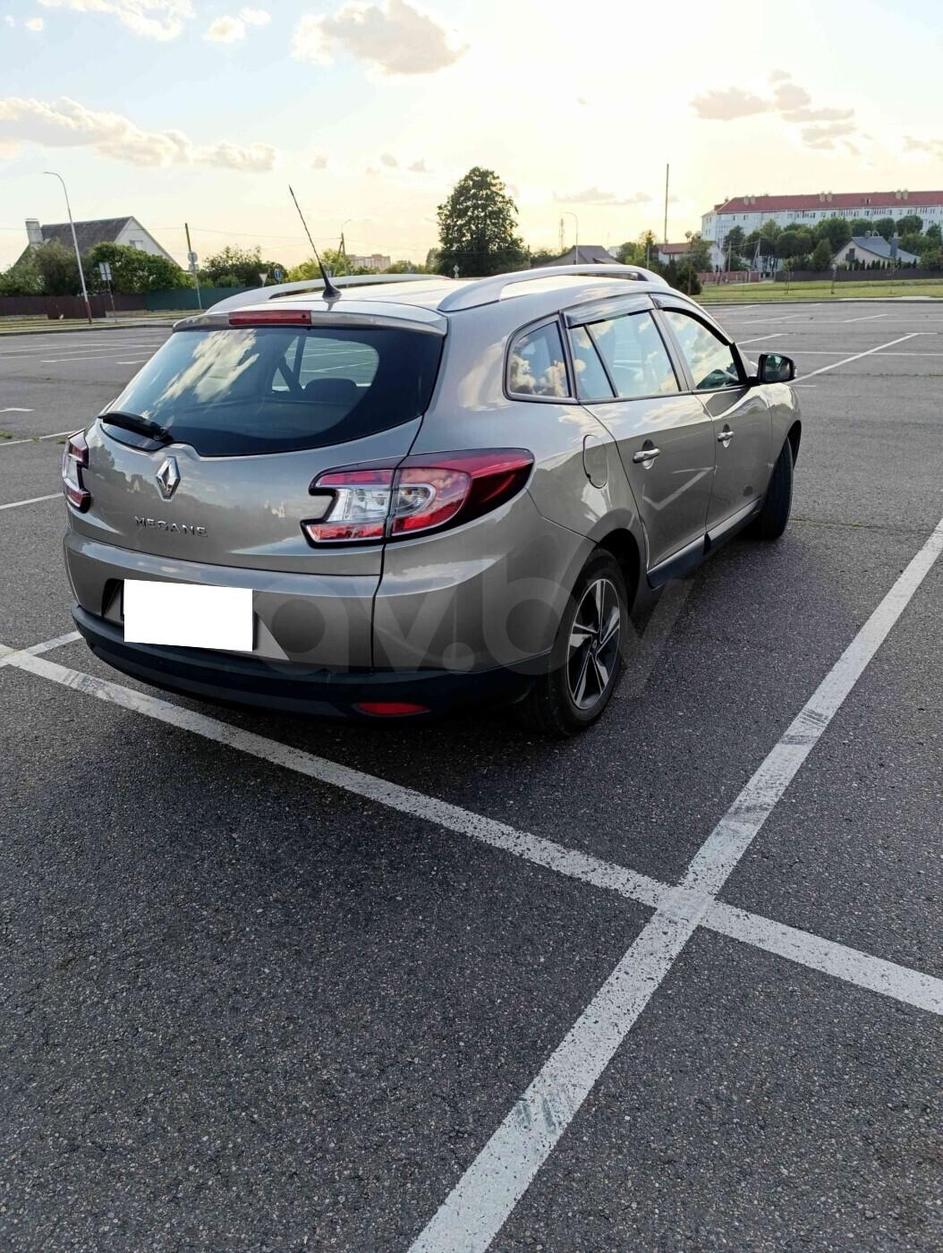Megane_2012-2014: (57, 267, 820, 746)
